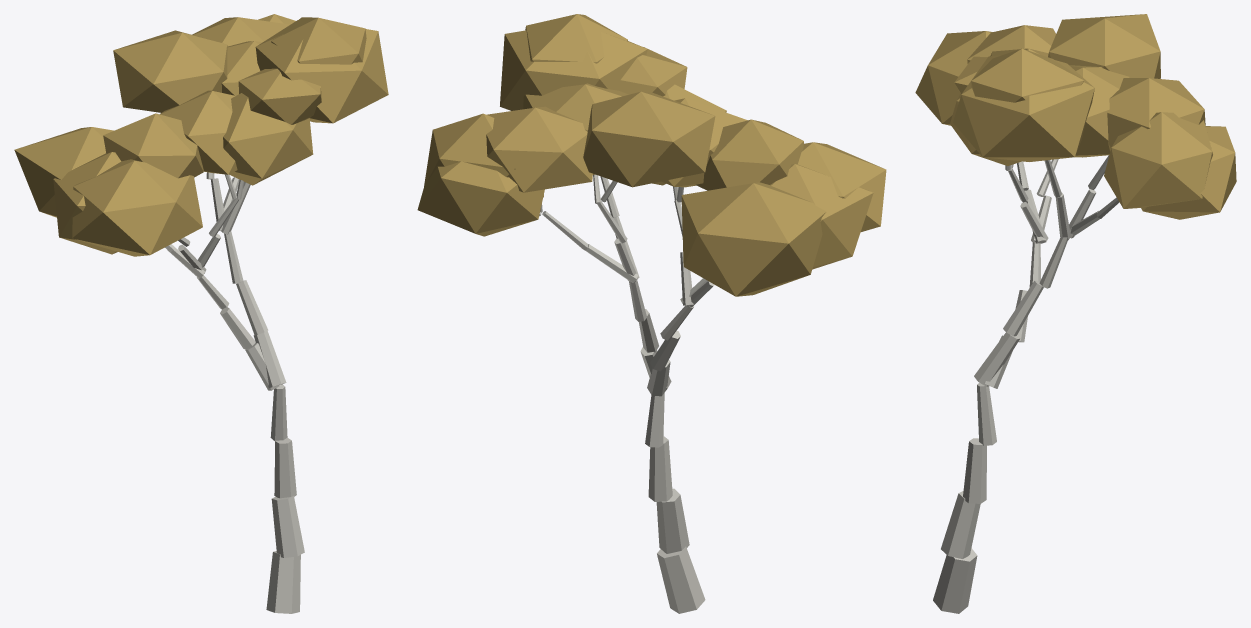
File: birch.glb
The picture shows the model from 3 angles, left to right: view 1: azimuth 30°, elevation 25°; view 2: azimuth 150°, elevation 25°; view 3: azimuth 270°, elevation 25°; orthographic projection. The views are drawn at different scales.
Parts seen in each view (by area): view 1: birch_leaf, birch_bark; view 2: birch_leaf, birch_bark; view 3: birch_leaf, birch_bark.
Part boxes in pixels (left/top/right/bottom): birch_leaf: left=14, top=14, right=388, bottom=256; birch_bark: left=165, top=172, right=304, bottom=613; birch_leaf: left=417, top=14, right=886, bottom=296; birch_bark: left=539, top=174, right=714, bottom=613; birch_leaf: left=915, top=14, right=1236, bottom=219; birch_bark: left=933, top=155, right=1119, bottom=613.
Size of the model in its own units: 5 by 8.01 by 3.92.
